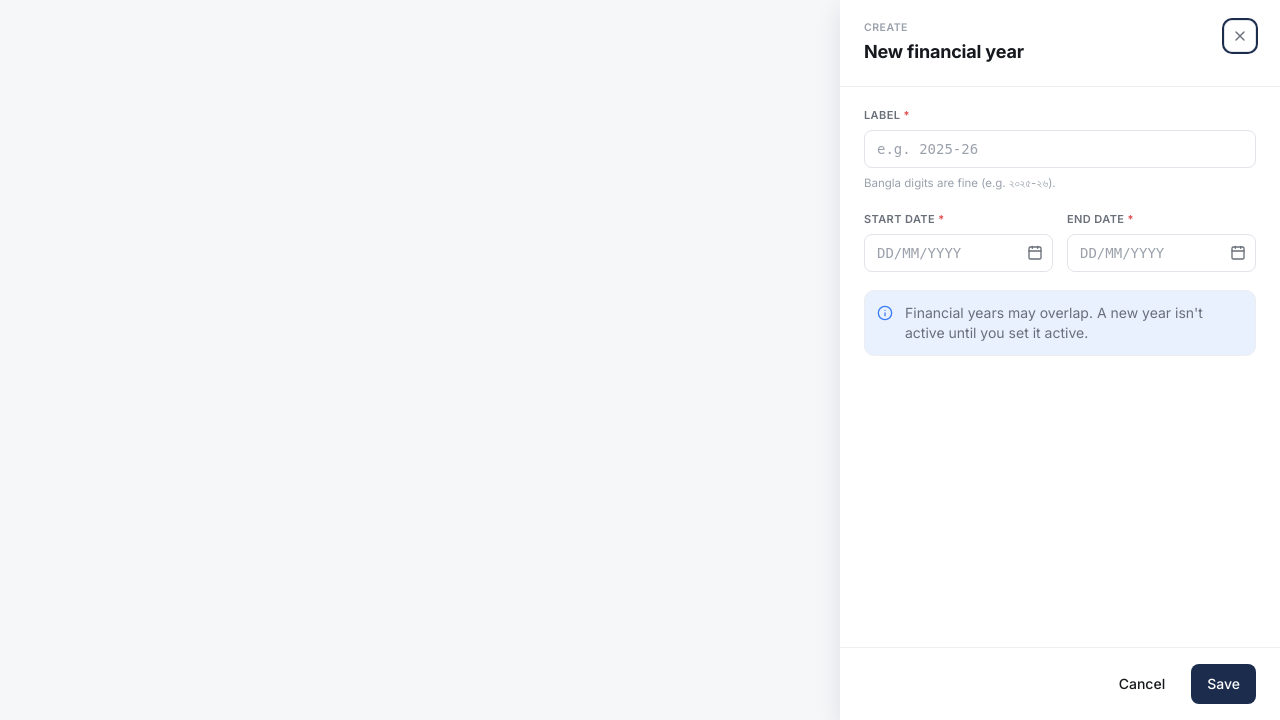
FinancialYearFormModal — validation + error mapping › blocks save with inline messages when fields are empty/invalid (spec §7)
Click the button with test id "fy-save".
click(1224, 684)  # box [1191,664,1256,704]
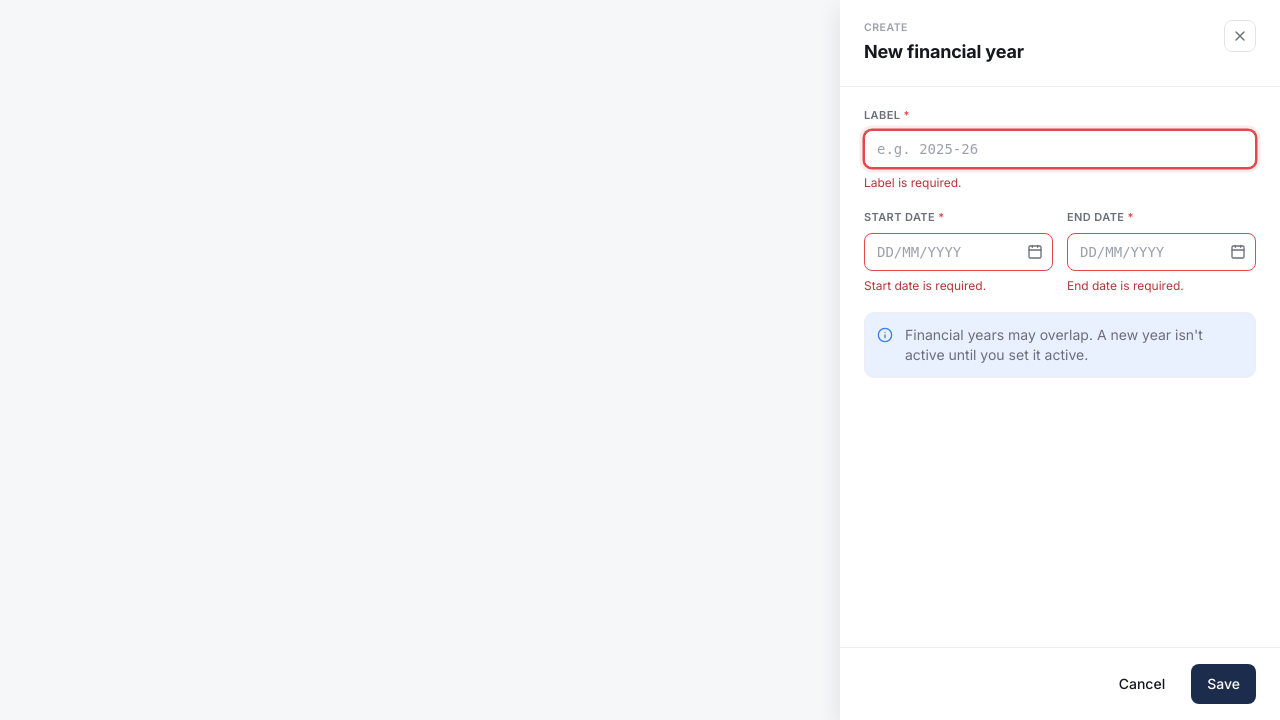
Expected: the text "Label is required." is shown, [864,175,962,190]
Expected: the text "Start date is required." is shown, [864,278,986,293]
Expected: the text "End date is required." is shown, [1067,278,1184,293]
